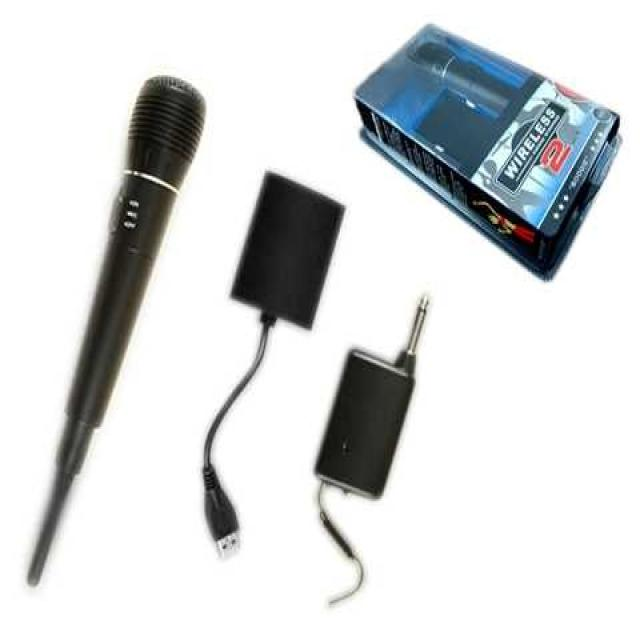microphone: (24, 74, 204, 582), (407, 36, 520, 122)
